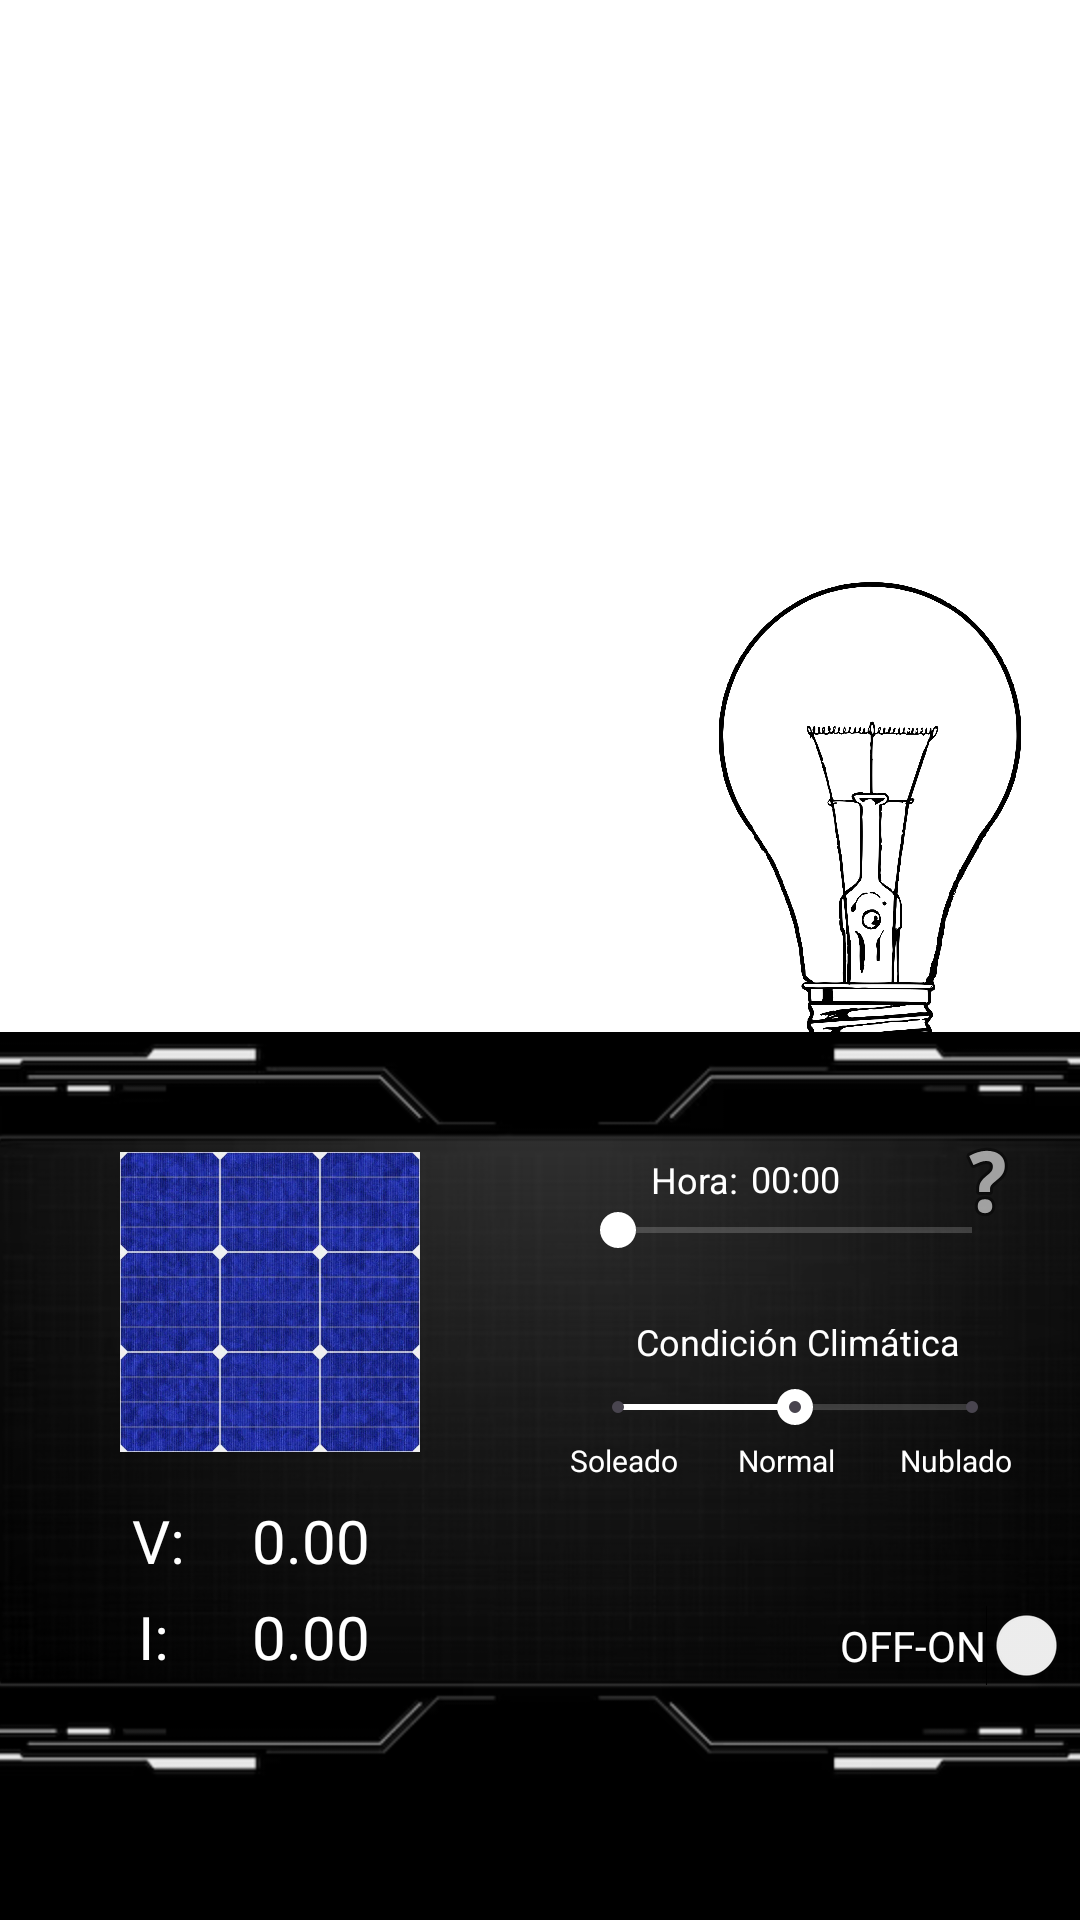

Named icons in this screenshot (1080px x 1920px) and their bounding boxes, rect(x1, y1, x2, y2):
panel solar: rect(120, 1152, 420, 1452)
